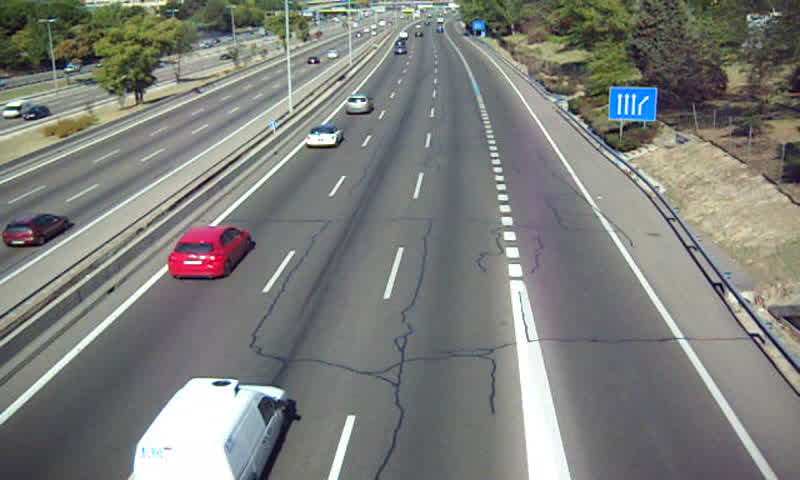car: (167, 226, 252, 278), (305, 126, 342, 148), (345, 92, 374, 114)
van: (135, 379, 286, 480)
